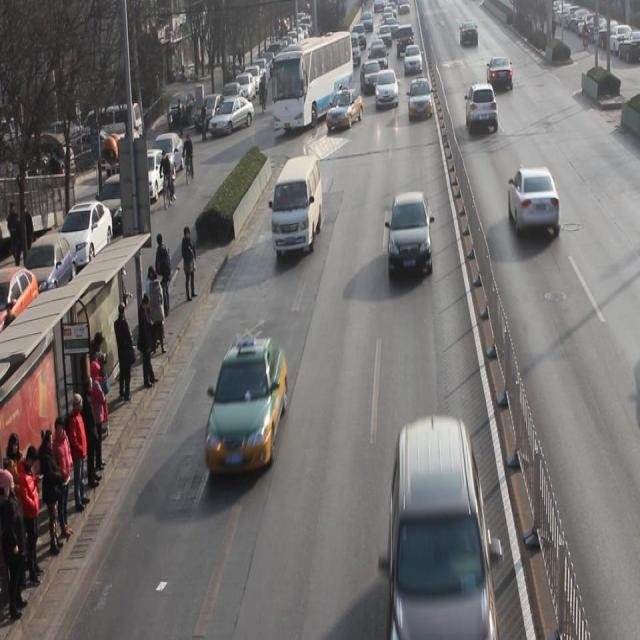car: (387, 412, 497, 640), (206, 335, 289, 473), (388, 190, 433, 277), (508, 167, 560, 235), (465, 81, 499, 132), (325, 88, 365, 130), (408, 76, 433, 120), (487, 54, 514, 92), (375, 68, 400, 109), (360, 59, 382, 95)
truck: (272, 152, 322, 258)
van: (272, 30, 353, 132)
